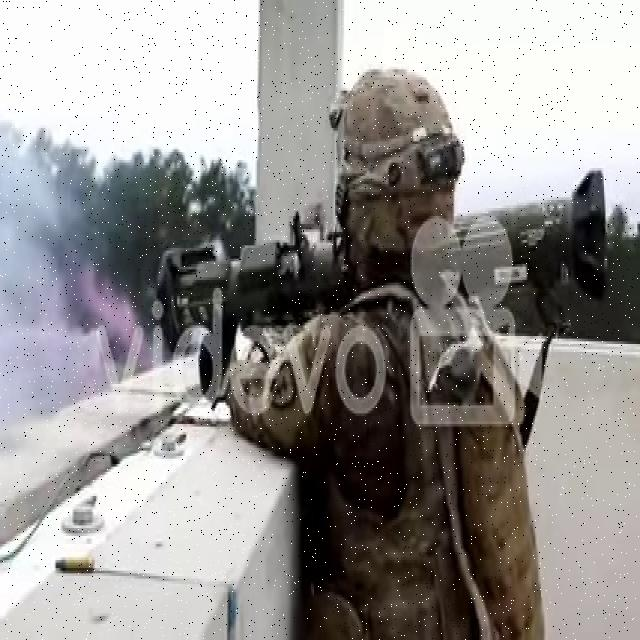bazooka: (153, 166, 619, 360)
